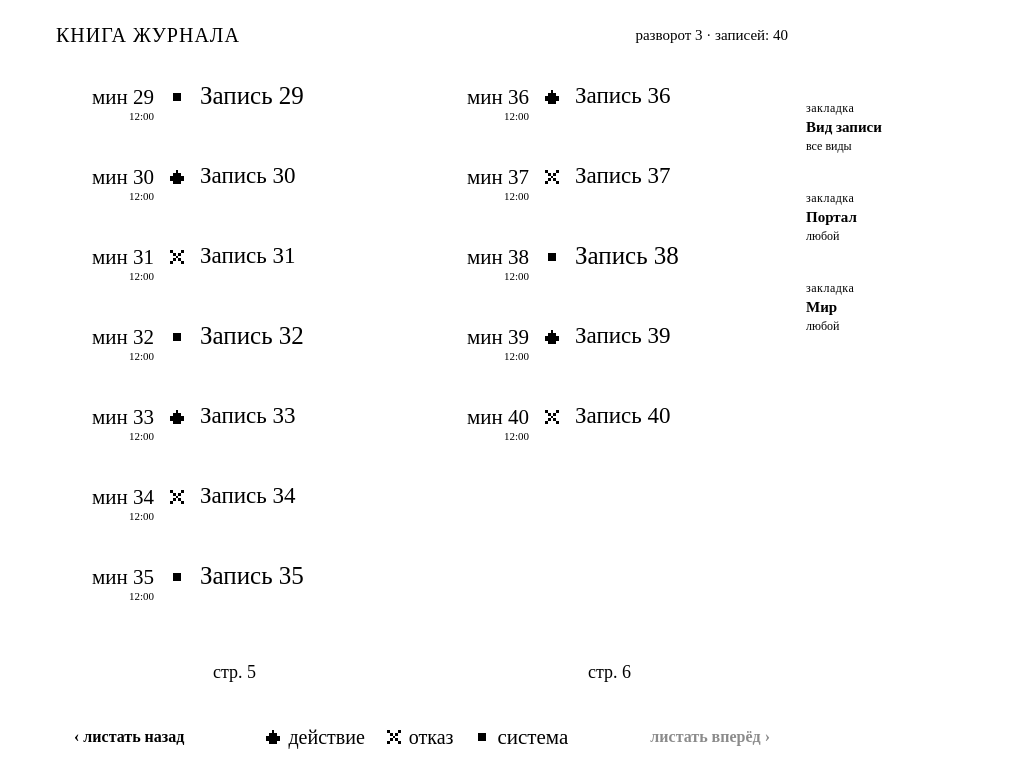
Test case: Книга журнала (spec §8, §9) › закладки-фильтры › смена фильтра возвращает на новейший разворот
Click the button with aria-label "Предыдущий разворот".
click(129, 737)  # box [56,715,202,759]
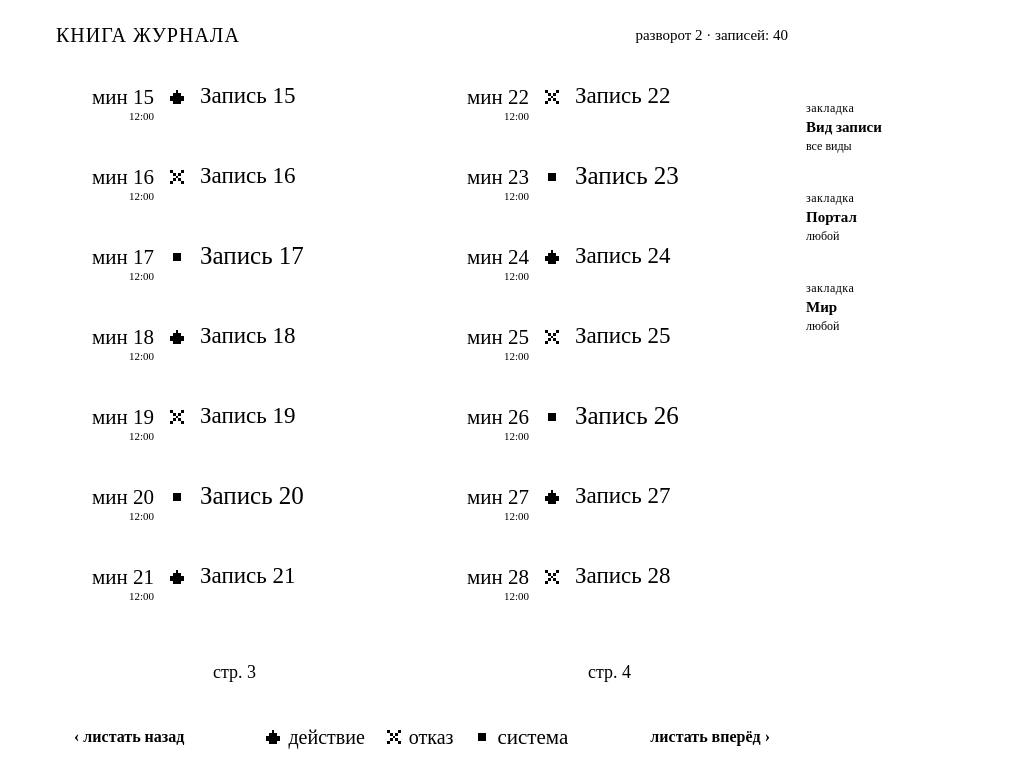
Click the button with aria-label "Предыдущий разворот".
click(129, 737)  # box [56,715,202,759]
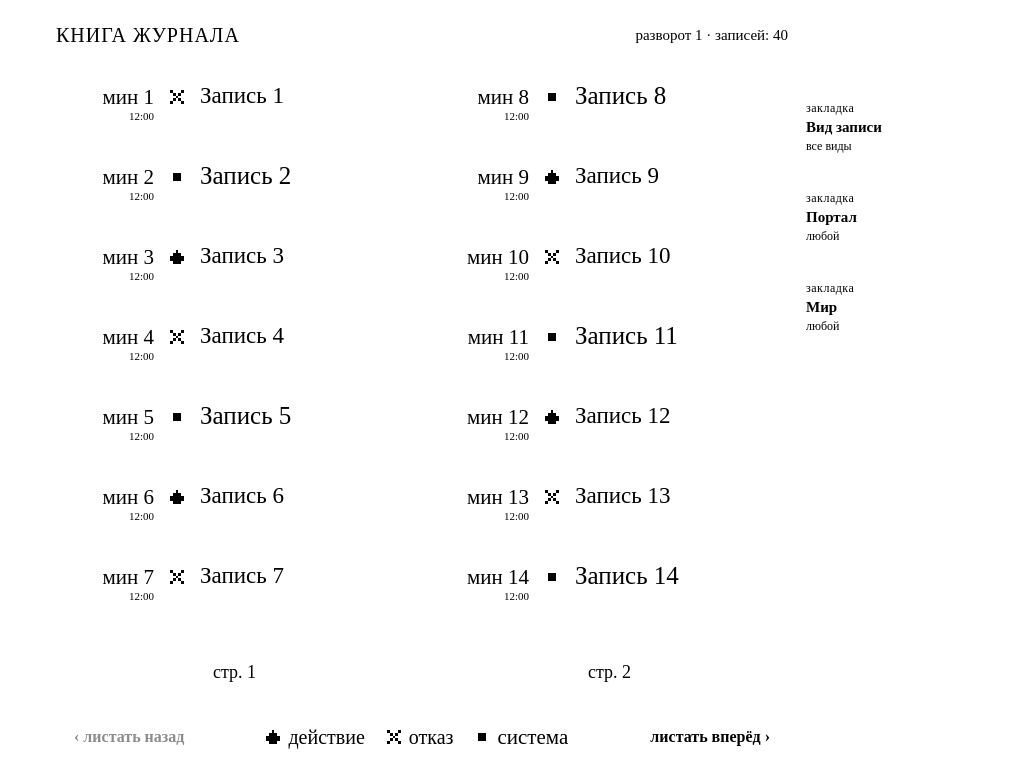
expect the text "разворот 1 · записей: 40" is shown: met, box [635,27,788,44]
Click the button "закладка Мир любой".
click(880, 313)  # box [792,274,968,352]
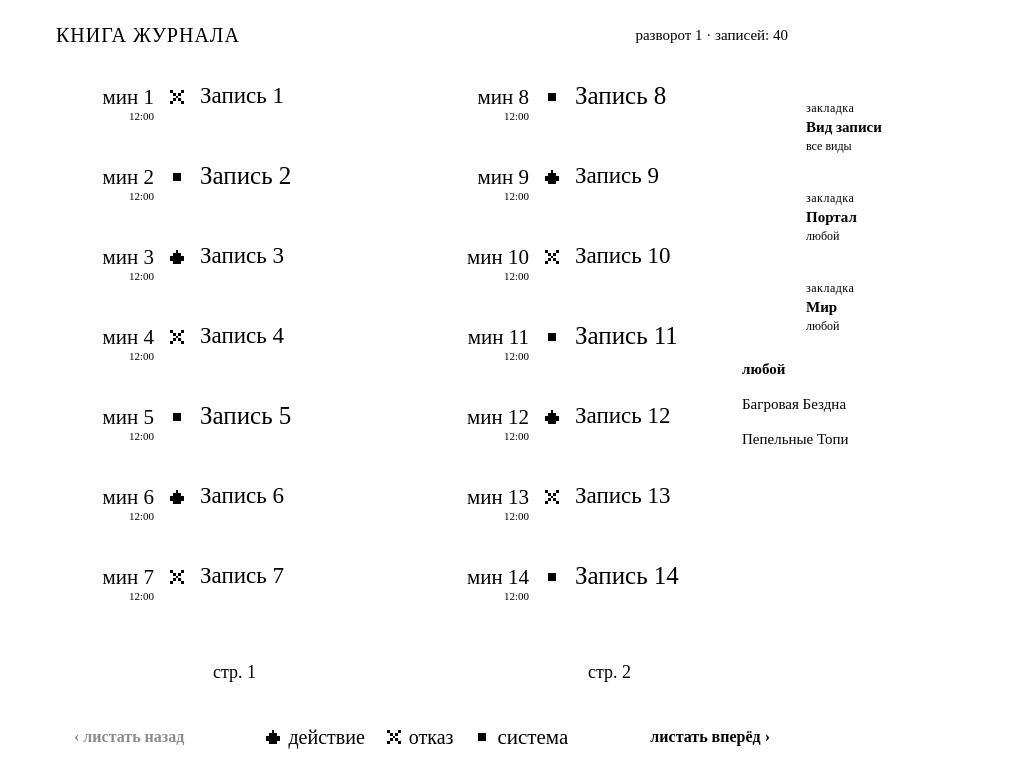
Click the button "Пепельные Топи".
click(848, 440)  # box [728,422,968,457]
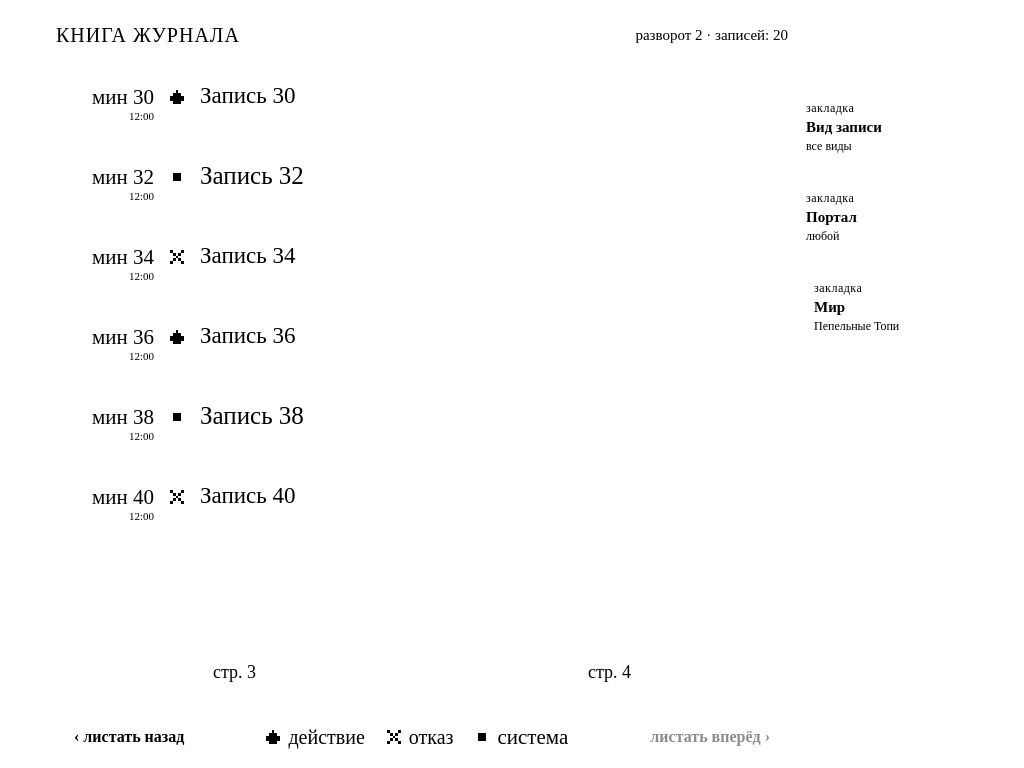
expect the text "разворот 2 · записей: 20" is shown: met, box [635,27,788,44]
